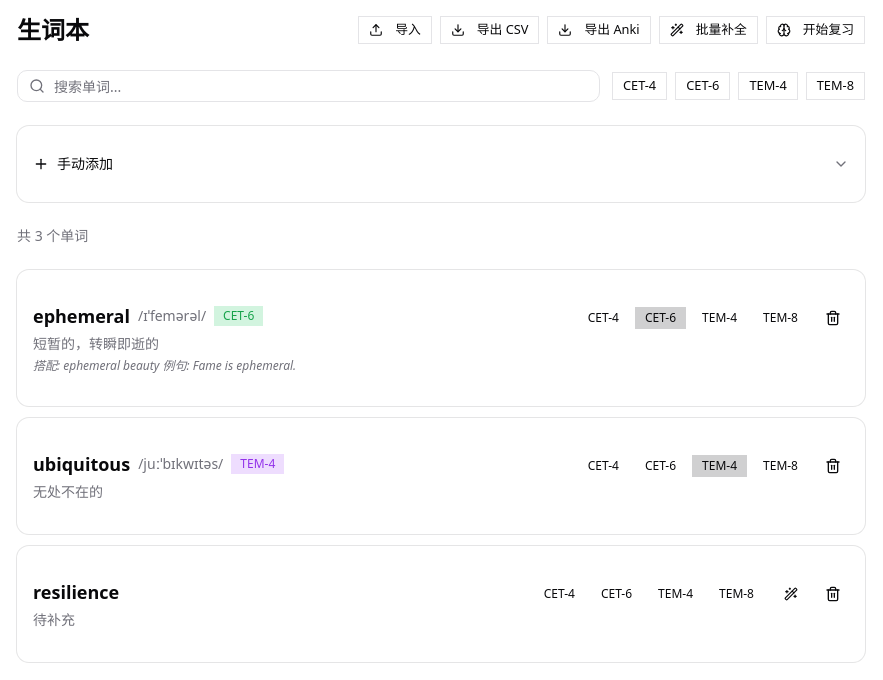
Test case: VocabularyPage › clears level filter when clicking the same level again
Expected: the text "ephemeral" is shown, [33,302,130,330]
Note: Apply CET-6 filter
Click the 1st button "CET-6": (703, 86) [675,72,730,100]
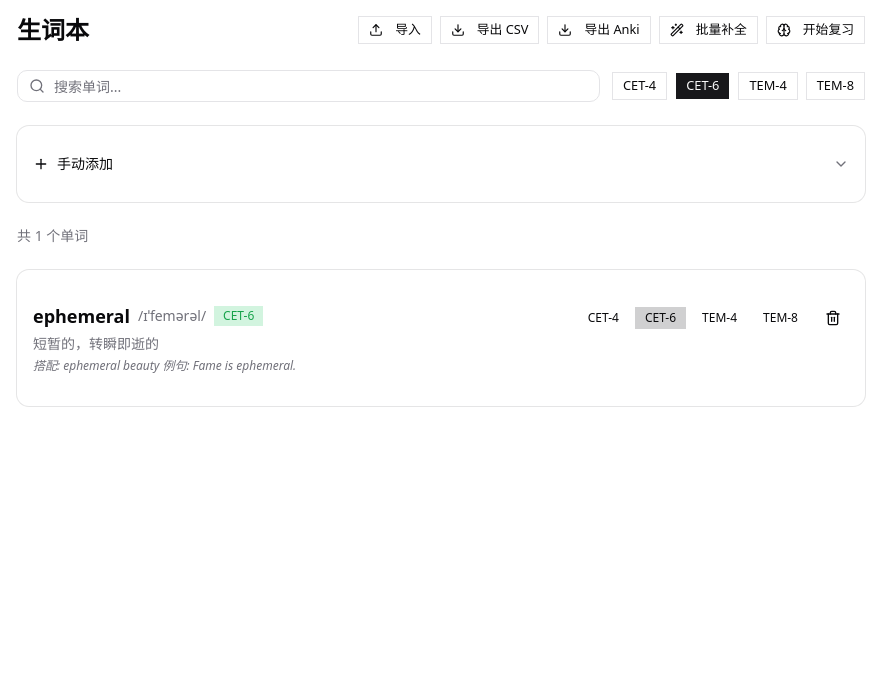
Expected: the text "共 1 个单词" is shown, [17,226,88,245]
Note: Click CET-6 again to clear filter
Click the 1st button "CET-6": (703, 86) [675,72,730,100]
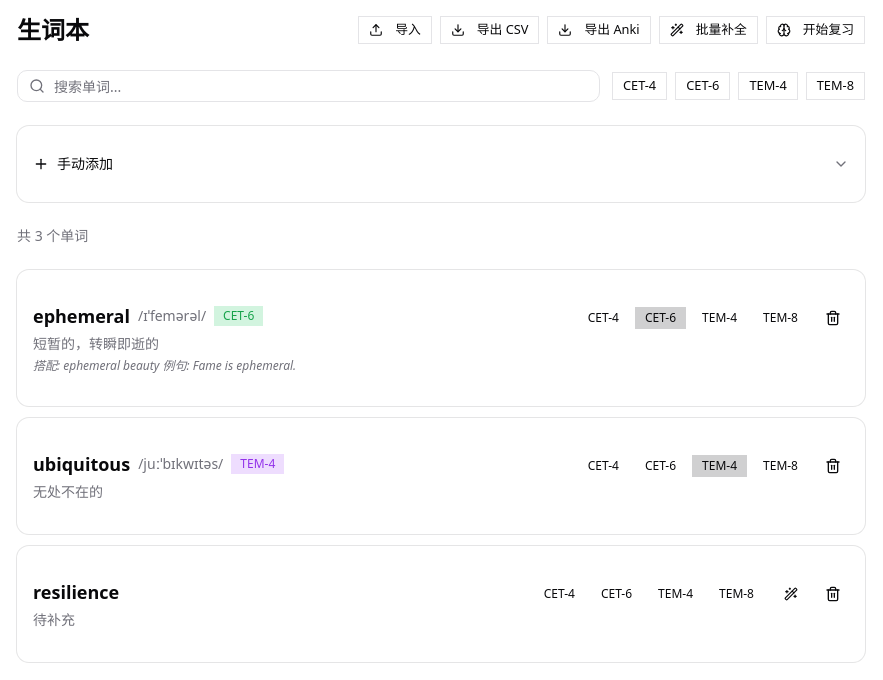
Expected: the text "共 3 个单词" is shown, [17,226,88,245]
